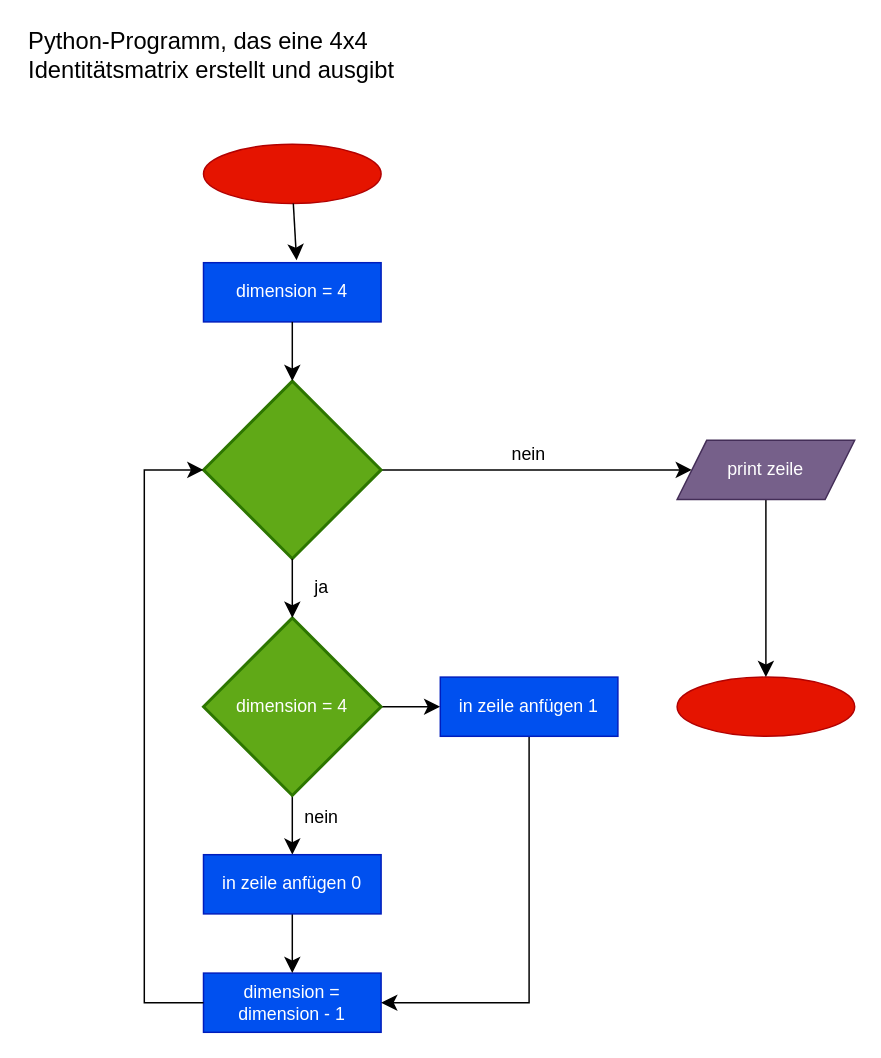
This 881x1058 diagram has some shape labels left out. The centre of each missing label's shape, as x and y in pixels:
"dimension > 0" goes at point (291, 469).
"Ende" goes at point (765, 706).
"Start" goes at point (291, 173).
